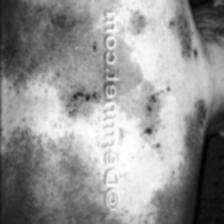Non-Cancerous Skin Condition: (103, 0, 224, 224), (0, 0, 96, 224)
